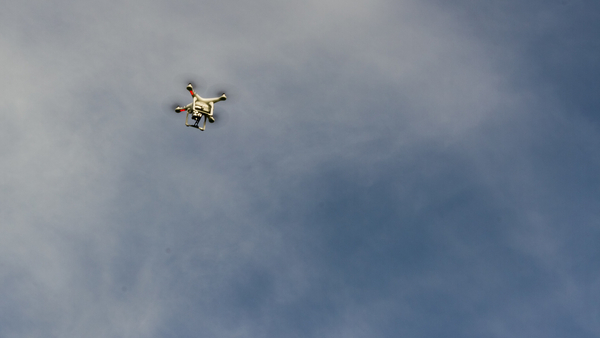drone: (166, 77, 228, 133)
